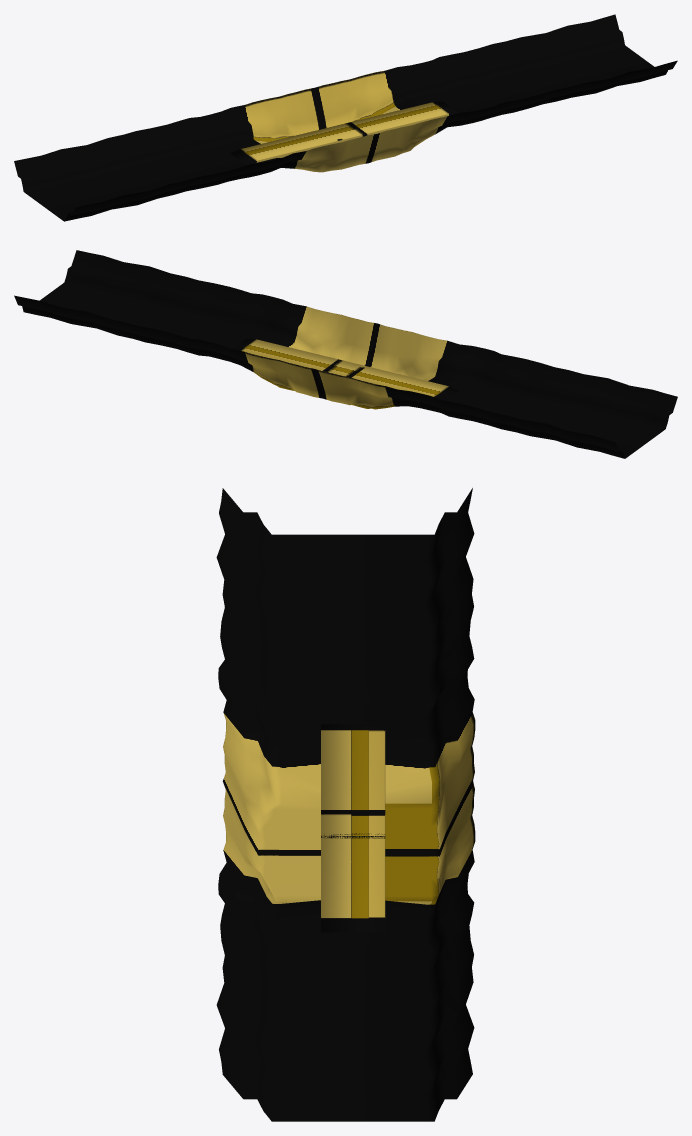
The model's file is bridge tile.obj.
The picture shows the model from 3 angles, top to bottom: view 1: azimuth 30°, elevation 25°; view 2: azimuth 150°, elevation 25°; view 3: azimuth 270°, elevation 25°; orthographic projection. The views are drawn at different scales.
Parts seen in each view (by area): view 1: bridge; view 2: bridge; view 3: bridge.
Part boxes in pixels (x1,y1,x2,y2): bridge: (14, 14, 677, 221); bridge: (14, 250, 677, 458); bridge: (216, 488, 475, 1121).
Bounding box in the file's own units: 400 × 23.55 × 74.55.
